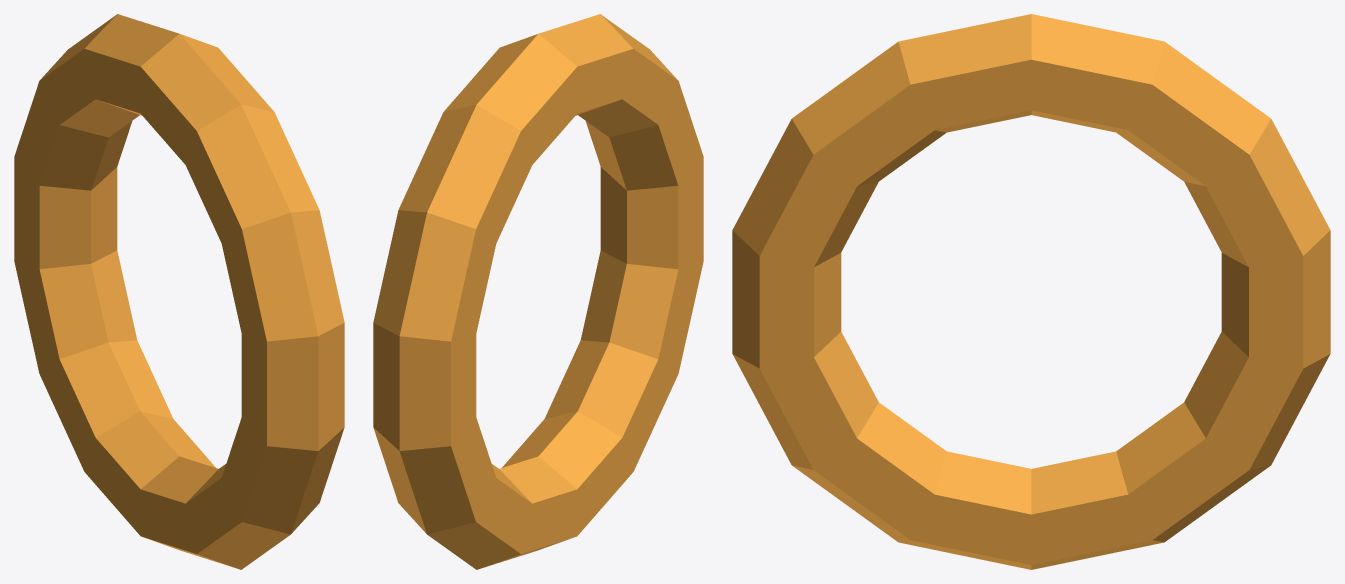
The model's file is Repair_EmergencyClamp.glb.
3 views of the same model, side by side, from view 1: azimuth 30°, elevation 25°; view 2: azimuth 150°, elevation 25°; view 3: azimuth 270°, elevation 25° (orthographic). The views are drawn at different scales.
Parts seen in each view (by area): view 1: Repair_EmergencyClamp; view 2: Repair_EmergencyClamp; view 3: Repair_EmergencyClamp.
Part boxes in pixels (box(x1,y1,x2,y2)): Repair_EmergencyClamp: box(14, 14, 344, 569); Repair_EmergencyClamp: box(373, 14, 703, 569); Repair_EmergencyClamp: box(732, 14, 1330, 569).
Size of the model in its own units: 0.1039 by 0.66 by 0.6435.
